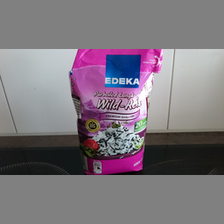rice: (68, 49, 164, 175)
